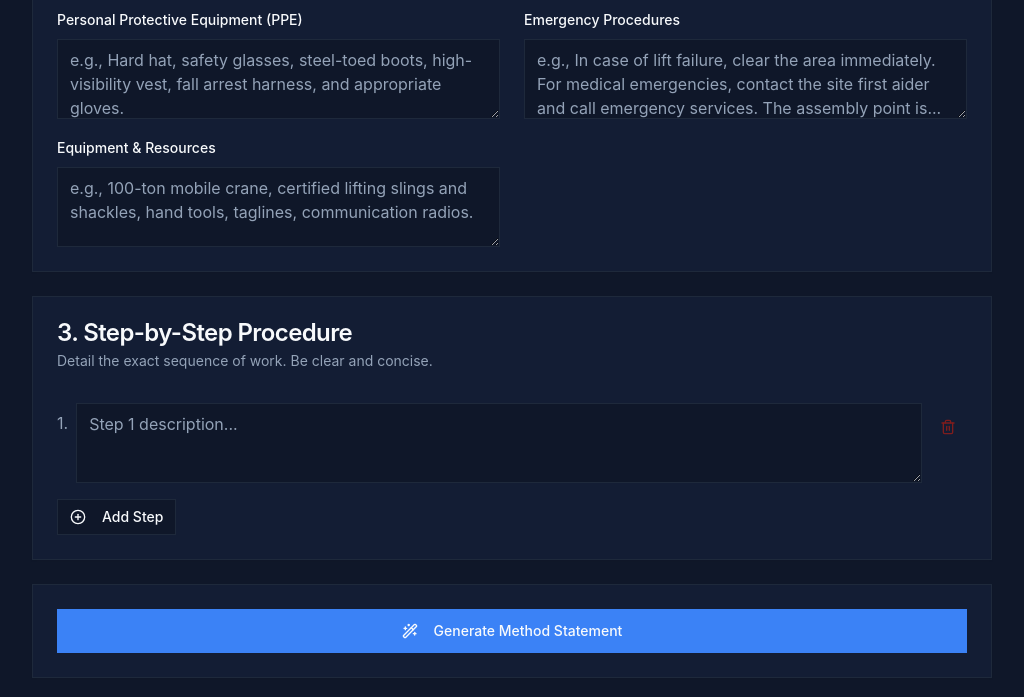
it: MethodStatementPage › shows validation errors for required fields on submit
(page scrolled)
Step 1. Click the button "Generate Method Statement" → (512, 631), box [57,609,967,653]
(page scrolled)
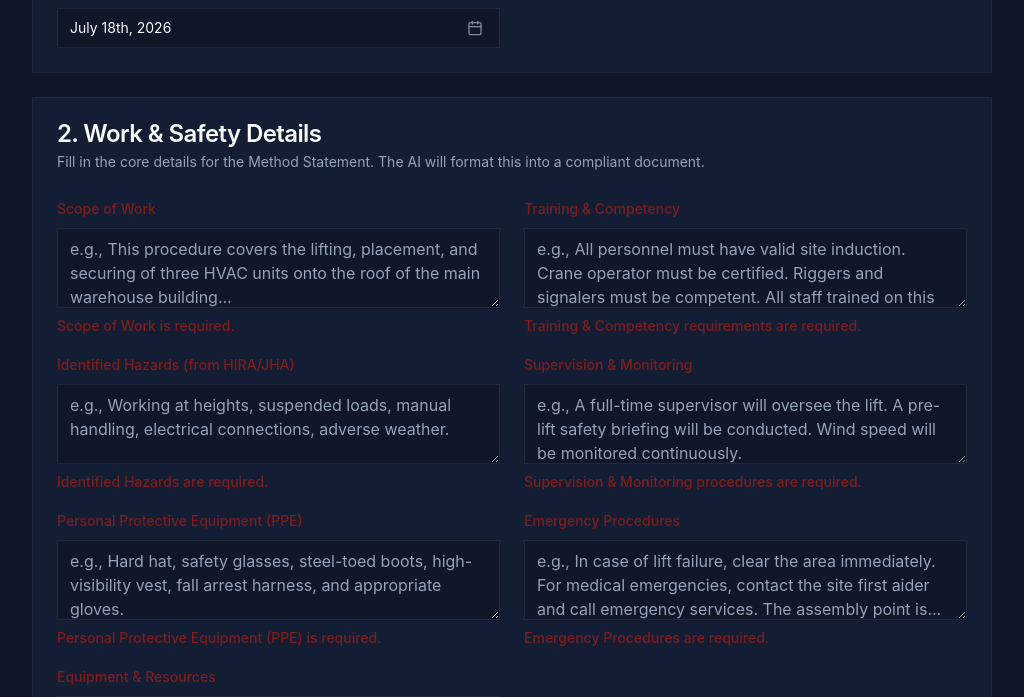
Check: the text "Scope of Work is required." is shown, box [57,317,235,334]
